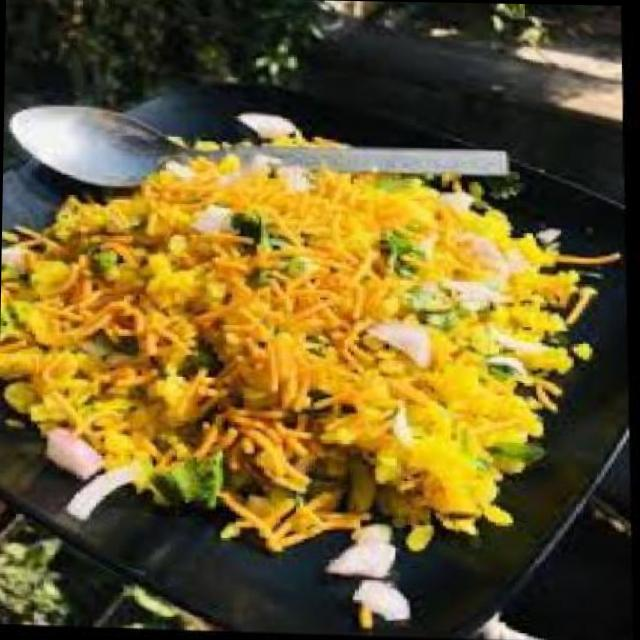poha: (0, 129, 603, 555)
